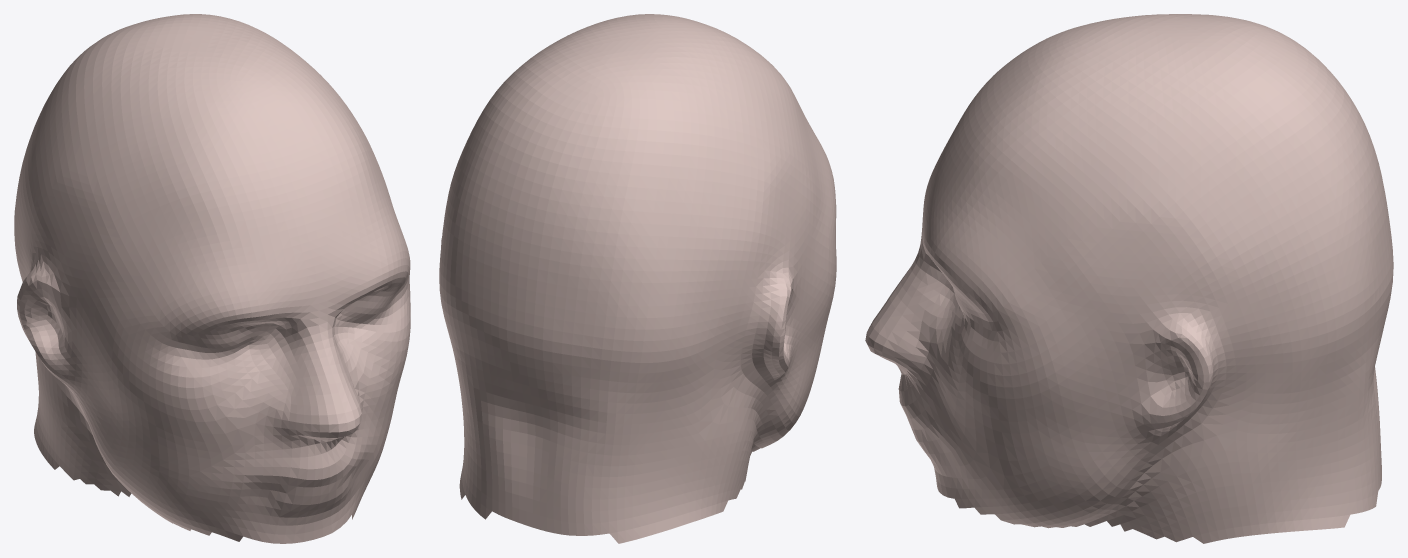
File: brain-cortex.glb
The picture shows the model from 3 angles, left to right: view 1: azimuth 30°, elevation 25°; view 2: azimuth 150°, elevation 25°; view 3: azimuth 270°, elevation 25°; orthographic projection. The views are drawn at different scales.
Parts seen in each view (by area): view 1: HRA_registered_head_skin_display; view 2: HRA_registered_head_skin_display; view 3: HRA_registered_head_skin_display.
Part boxes in pixels (bbox=[...]): HRA_registered_head_skin_display: bbox=[14, 14, 410, 543]; HRA_registered_head_skin_display: bbox=[439, 14, 836, 543]; HRA_registered_head_skin_display: bbox=[865, 14, 1393, 543].
Bounding box in the file's own units: 182 × 215 × 228.
